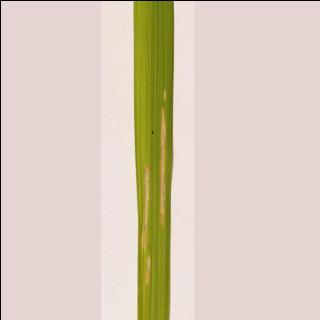Hawar-Daun: (124, 100, 176, 302)
